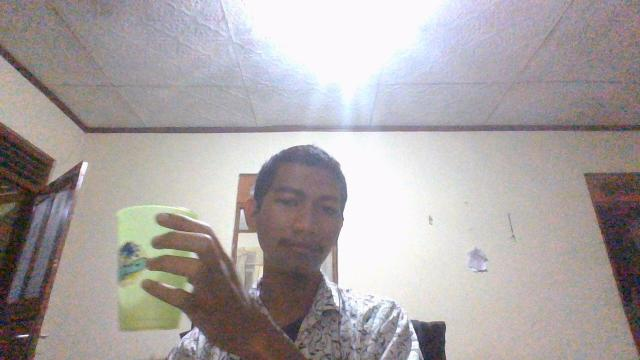botol-hijau: (112, 201, 202, 336)
